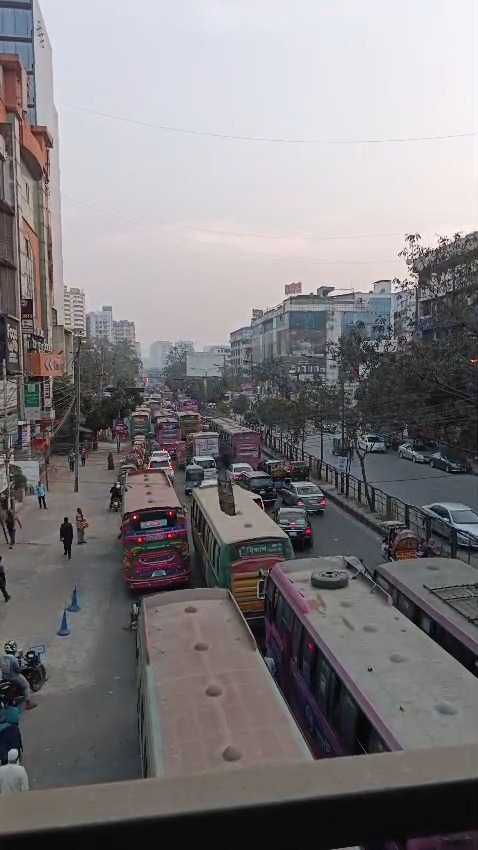Bus: (278, 539, 478, 780), (132, 577, 292, 847), (118, 462, 193, 590), (197, 477, 278, 588), (202, 405, 266, 467), (131, 402, 221, 438)
cng: (182, 462, 210, 486)
private car: (393, 424, 478, 491), (427, 489, 478, 576), (288, 470, 346, 534), (275, 500, 320, 547), (227, 459, 276, 494), (150, 448, 178, 475), (367, 424, 388, 458), (189, 454, 226, 467)
